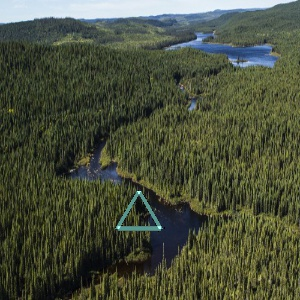triangle: (112, 188, 164, 236)
